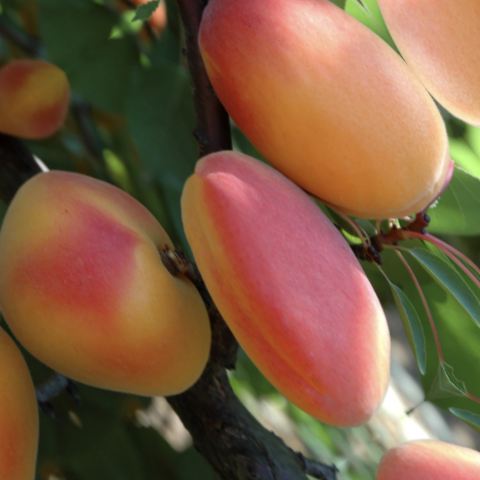mango: (124, 105, 456, 463), (0, 105, 277, 462), (150, 0, 480, 287)
